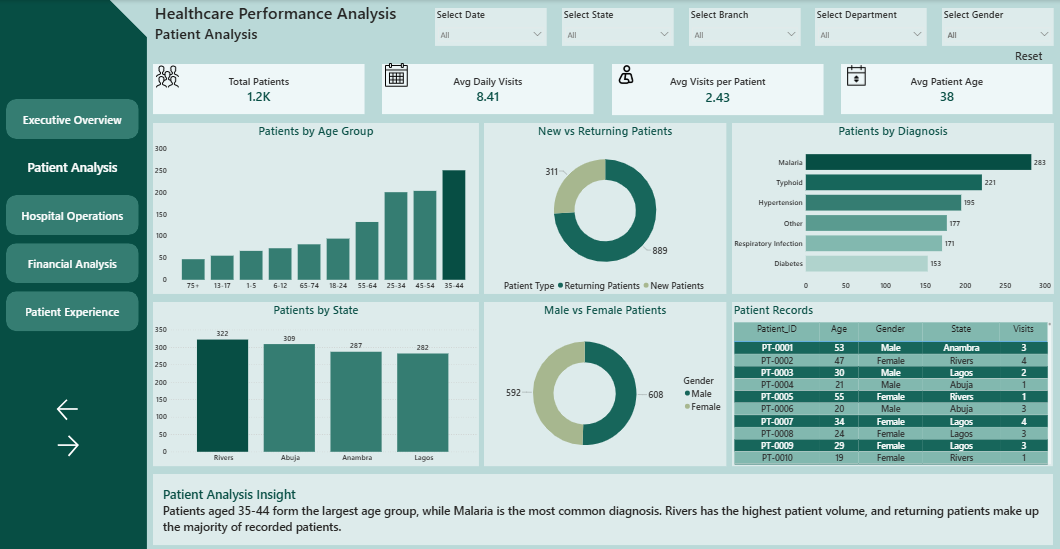

The page's visual inventory and layout, read from the dashboard file:
{"tool":"powerbi","page":{"name":"Patient Analysis","canvas":[3140,1625],"ordinal":1},"visuals":[{"type":"cardVisual","fields":{"Data":["Date_Table.Total Patients"]},"box":[455,190.2,625,147.7],"z":0},{"type":"cardVisual","fields":{"Data":["Date_Table.Avg Visits per Patient"]},"box":[1810.2,188.7,625,150.7],"z":1000},{"type":"shape","box":[0,0,437.3,1625],"z":2000},{"type":"columnChart","title":"Patients by Age Group","fields":{"Category":["Patient_Visits.Age Group"],"Y":["Date_Table.Total Patients"]},"box":[455,363.4,963.2,505.2],"z":3000},{"type":"clusteredColumnChart","title":"Patients by State","fields":{"Category":["State_Targets.State"],"Y":["Date_Table.Total Patients"]},"box":[455,892.3,963.2,484.5],"z":4000},{"type":"donutChart","title":"Male vs Female Patients","fields":{"Y":["Date_Table.Total Patients"],"Category":["Patient_Visits.Gender"]},"box":[1434,892.3,715.8,485],"z":5000},{"type":"donutChart","title":"New vs Returning Patients","fields":{"Y":["Date_Table.Returning Patients","Date_Table.New Patients"]},"box":[1434,363.4,715.8,505],"z":6000},{"type":"barChart","title":"Patients by Diagnosis","fields":{"Y":["Date_Table.Total Patients"],"Category":["Patient_Visits.Diagnosis"]},"box":[2165.7,363.4,951.4,505.2],"z":7000},{"type":"textbox","box":[455,0,783.9,161.3],"z":8000},{"type":"slicer","title":"Select Date","fields":{"Values":["Date_Table.Date"]},"box":[1288.2,23.5,330,112.3],"z":9000},{"type":"slicer","title":"Select State","fields":{"Values":["Patient_Visits.State"]},"box":[1662.8,23.5,330,112.3],"z":10000},{"type":"slicer","title":"Select Branch","fields":{"Values":["Patient_Visits.Branch"]},"box":[2037.4,23.5,330,112.3],"z":11000},{"type":"slicer","title":"Select Department","fields":{"Values":["Patient_Visits.Department"]},"box":[2412,23.6,330,112.3],"z":12000},{"type":"slicer","title":"Select Gender","fields":{"Values":["Patient_Visits.Gender"]},"box":[2786.6,23.5,330,112.3],"z":13000},{"type":"cardVisual","fields":{"Data":["Date_Table.Avg Daily Visits"]},"box":[1132.6,190.2,625,147.7],"z":14000},{"type":"cardVisual","fields":{"Data":["Date_Table.Avg Patient Age"]},"box":[2487.7,190.2,625,147.7],"z":15000},{"type":"image","box":[455,189.1,85,73.9],"z":16000},{"type":"tableEx","title":"Patient Records","fields":{"Values":["Patient_Visits.Patient_ID","Patient_Visits.Age","Patient_Visits.Gender","Patient_Visits.State","Patient_Visits.Visit_Count"]},"box":[2165.7,892.3,948.4,484.5],"z":17000},{"type":"cardVisual","fields":{"Data":["Date_Table.Patient Analysis Insight"]},"box":[455,1400.5,2659.1,210],"z":18000},{"type":"image","box":[2490.7,189.1,85,73],"z":19000},{"type":"image","box":[1811.1,183.2,85,73.9],"z":20000},{"type":"image","box":[1131.6,186.1,85,73],"z":21000},{"type":"pageNavigator","box":[20.7,292.5,392,688],"z":22000},{"type":"actionButton","box":[2975.8,136.4,135,53],"z":23000},{"type":"actionButton","box":[166.7,1278.8,100,75.8],"z":24000},{"type":"actionButton","box":[166.7,1172.7,100,75],"z":25000}]}

Visuals, with their boxes on the page's 3140x1625 design canvas (x1, y1, x2, y2). These are canvas units, not pixel positions in the 1060x549 screenshot, which may show the page scaled, cropped or inside an application window:
cardVisual - Date_Table.Total Patients: box(455, 190, 1080, 338)
cardVisual - Date_Table.Avg Visits per Patient: box(1810, 189, 2435, 339)
shape: box(0, 0, 437, 1625)
"Patients by Age Group" columnChart: box(455, 363, 1418, 869)
"Patients by State" clusteredColumnChart: box(455, 892, 1418, 1377)
"Male vs Female Patients" donutChart: box(1434, 892, 2150, 1377)
"New vs Returning Patients" donutChart: box(1434, 363, 2150, 868)
"Patients by Diagnosis" barChart: box(2166, 363, 3117, 869)
textbox: box(455, 0, 1239, 161)
"Select Date" slicer: box(1288, 24, 1618, 136)
"Select State" slicer: box(1663, 24, 1993, 136)
"Select Branch" slicer: box(2037, 24, 2367, 136)
"Select Department" slicer: box(2412, 24, 2742, 136)
"Select Gender" slicer: box(2787, 24, 3117, 136)
cardVisual - Date_Table.Avg Daily Visits: box(1133, 190, 1758, 338)
cardVisual - Date_Table.Avg Patient Age: box(2488, 190, 3113, 338)
image: box(455, 189, 540, 263)
"Patient Records" tableEx: box(2166, 892, 3114, 1377)
cardVisual - Date_Table.Patient Analysis Insight: box(455, 1400, 3114, 1610)
image: box(2491, 189, 2576, 262)
image: box(1811, 183, 1896, 257)
image: box(1132, 186, 1217, 259)
pageNavigator: box(21, 292, 413, 980)
actionButton: box(2976, 136, 3111, 189)
actionButton: box(167, 1279, 267, 1355)
actionButton: box(167, 1173, 267, 1248)
